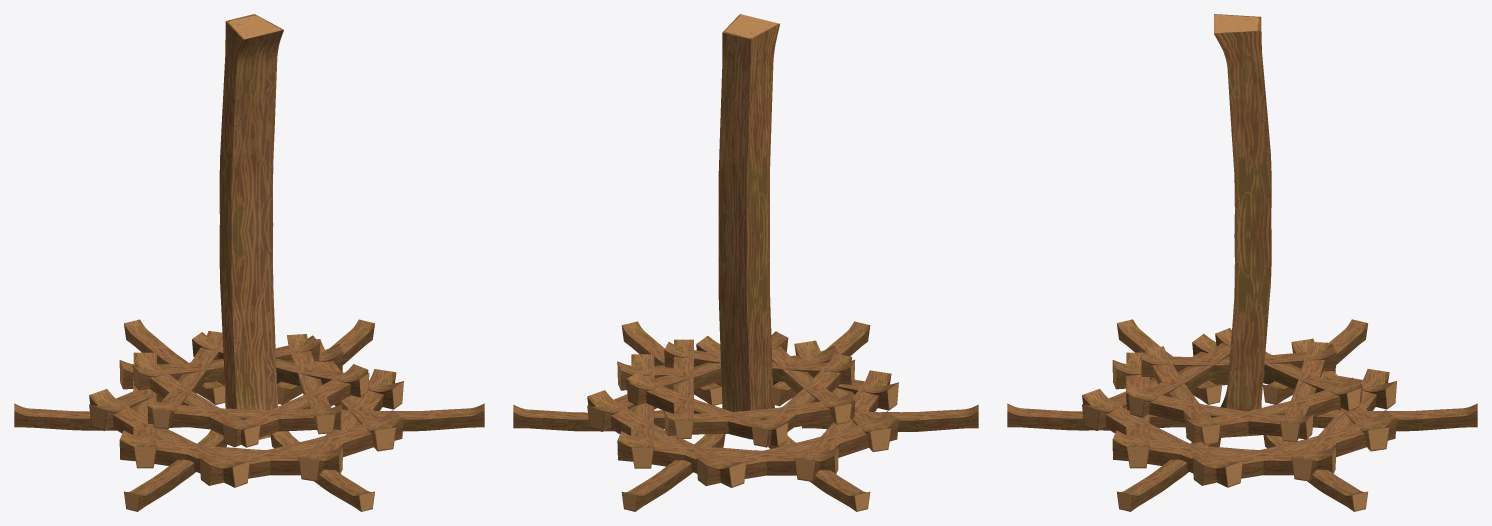
The model's file is medieval_stake.glb.
The picture shows the model from 3 angles, left to right: view 1: azimuth 30°, elevation 25°; view 2: azimuth 150°, elevation 25°; view 3: azimuth 270°, elevation 25°; orthographic projection.
Parts seen in each view (by area): view 1: Roof_Log (×23); view 2: Roof_Log (×23); view 3: Roof_Log (×23).
Part boxes in pixels (bbox=[...]): Roof_Log (×23): bbox=[14, 14, 484, 511]; Roof_Log (×23): bbox=[513, 14, 978, 511]; Roof_Log (×23): bbox=[1007, 14, 1477, 511].
Size of the model in its own units: 3 by 3.21 by 3.38.
1 material, 1 textured.
